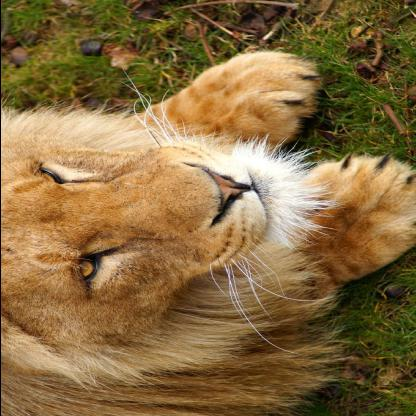lion: (1, 93, 265, 354)
